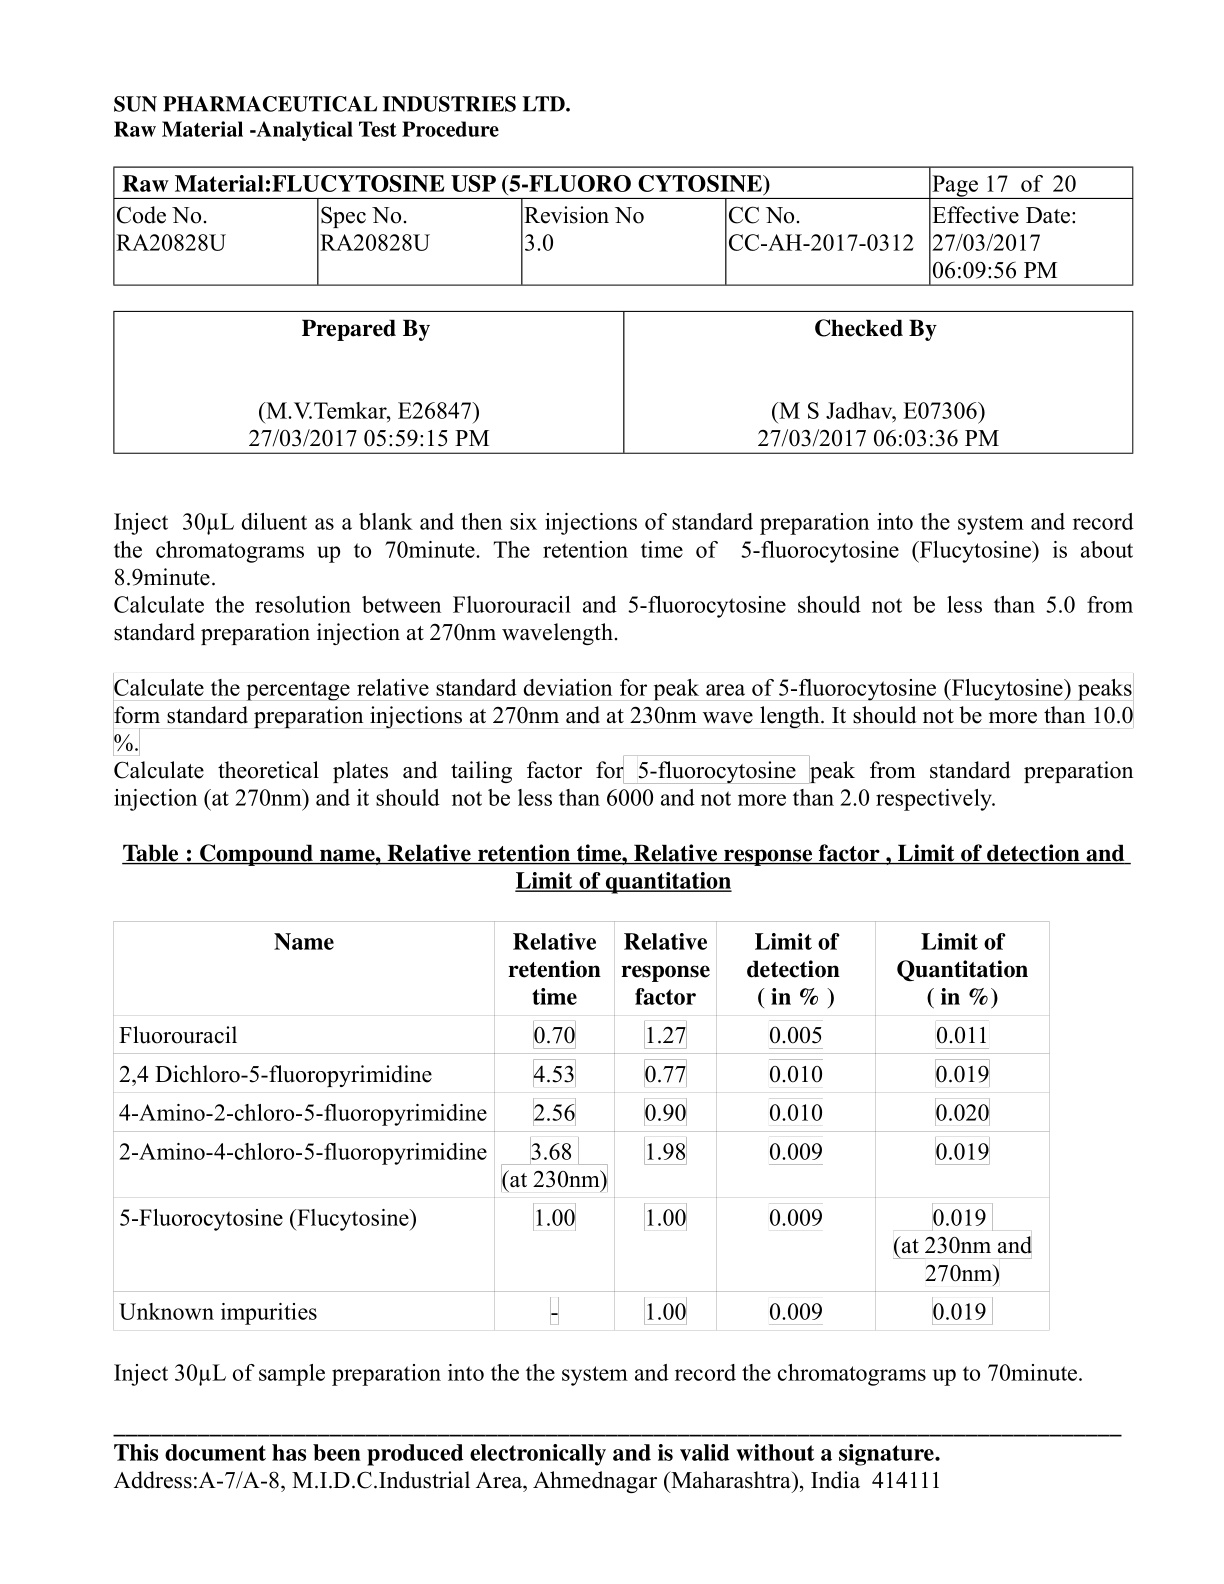full_lined: (111, 919, 1050, 1331), (112, 310, 1134, 455)
merged_cells: (112, 165, 1134, 285)
